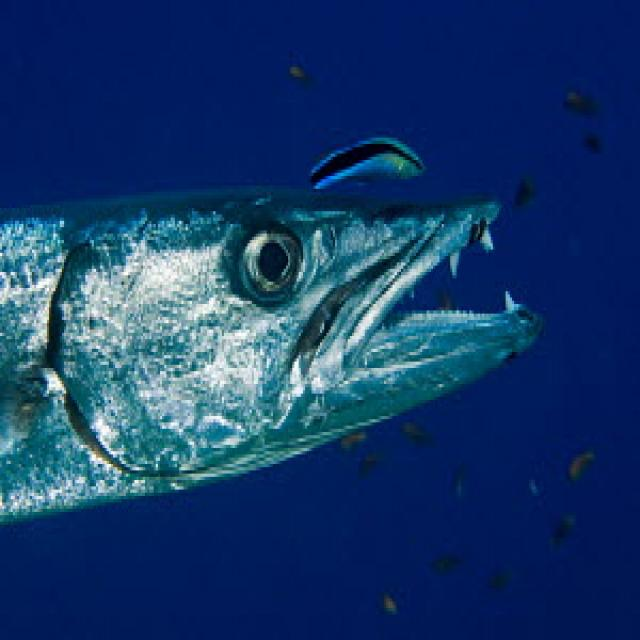Barracuda: (2, 186, 548, 531)
